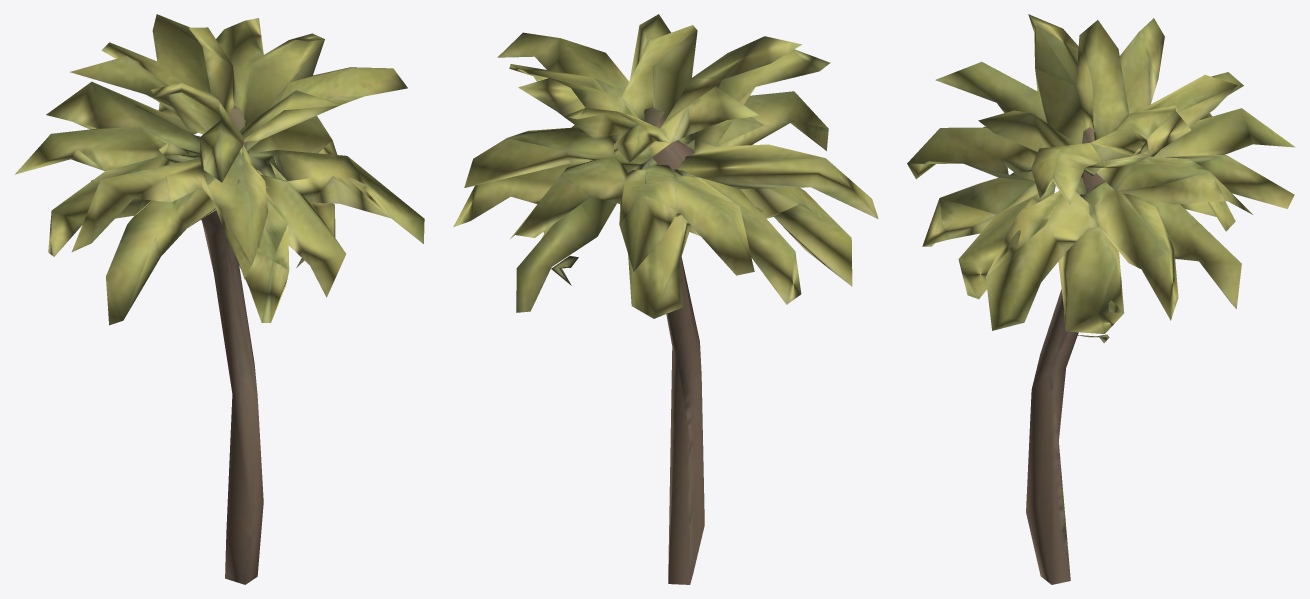
File: palm_b_far.glb
3 renders of one model, left to right at view 1: azimuth 30°, elevation 25°; view 2: azimuth 150°, elevation 25°; view 3: azimuth 270°, elevation 25°, orthographic. The views are drawn at different scales.
Visible parts, largest first — view 1: body; view 2: body; view 3: body.
Boxes of the visible parts, x1,y1,x2,y2 form: body: (15,14,424,584); body: (453,14,878,584); body: (907,14,1295,584).
Bounding box in the file's own units: 4.3 × 6.51 × 4.22.
2 materials, 2 textured.
